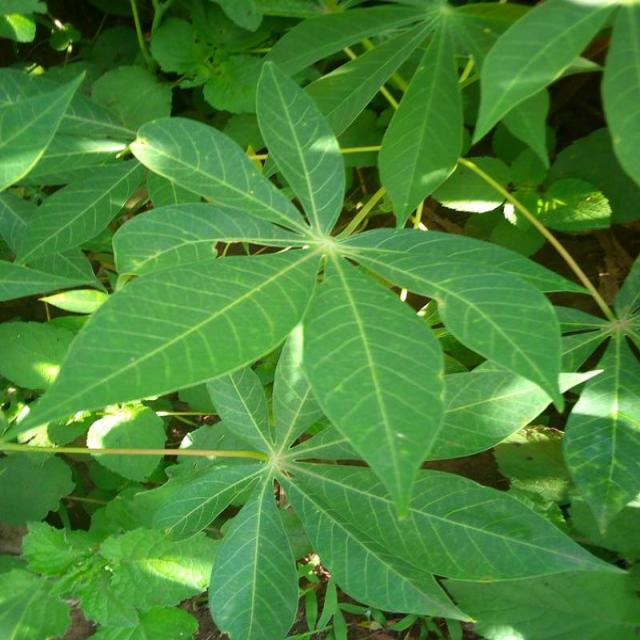cassava leaf: (1, 2, 638, 637), (6, 244, 320, 445), (300, 250, 446, 520)
